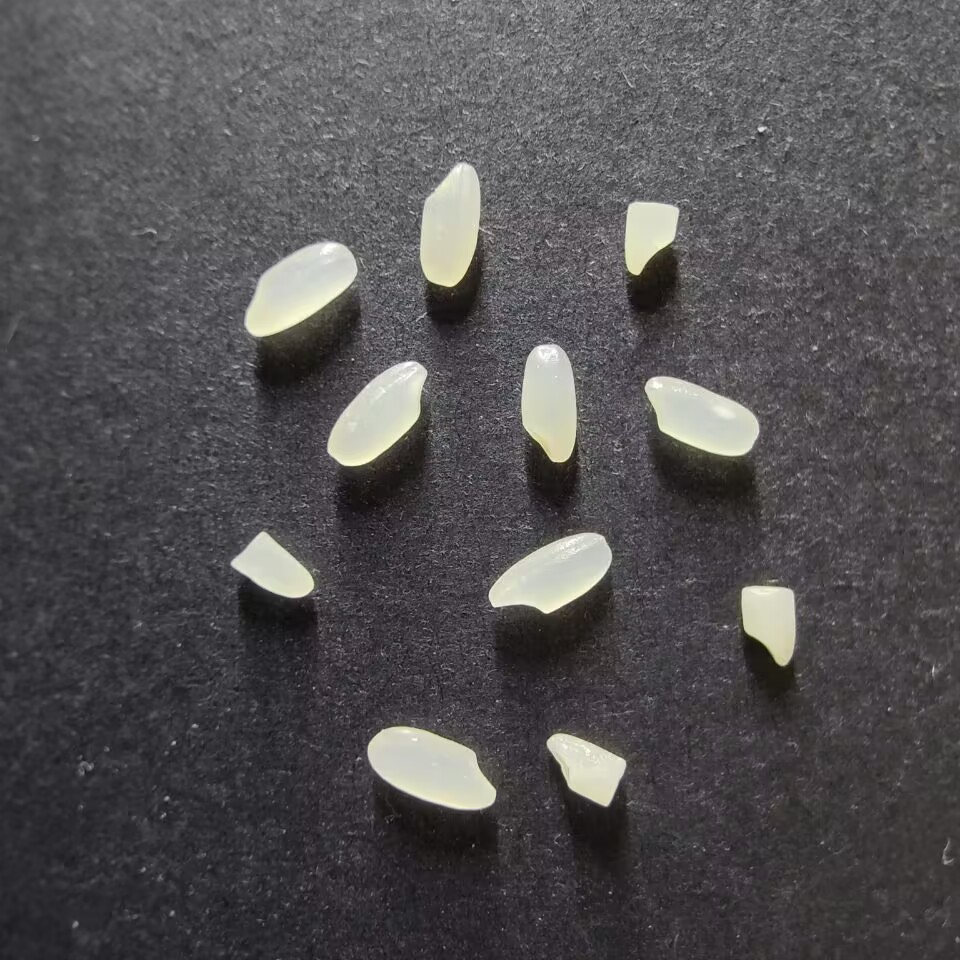broken: (543, 731, 629, 809), (227, 526, 315, 600), (738, 584, 799, 668), (623, 199, 682, 277)
rice: (243, 240, 361, 339), (365, 724, 498, 811), (325, 358, 427, 467), (486, 530, 613, 615), (641, 373, 761, 457), (417, 159, 482, 288), (517, 342, 579, 464)
